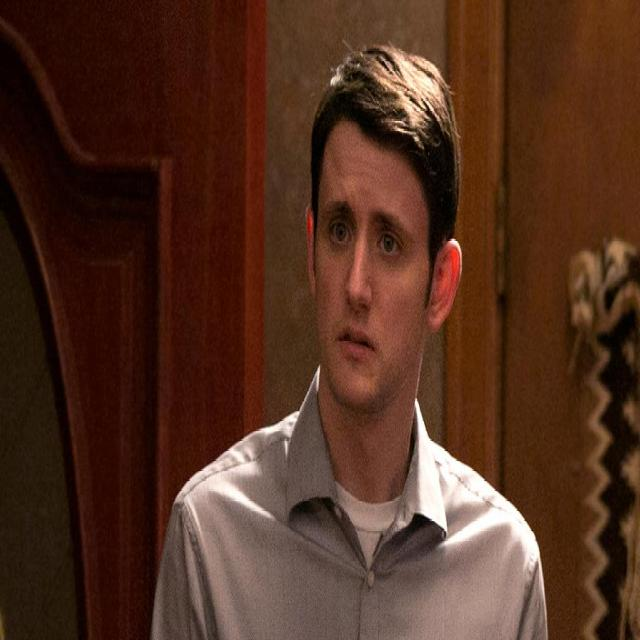nomask: (314, 136, 428, 407)
